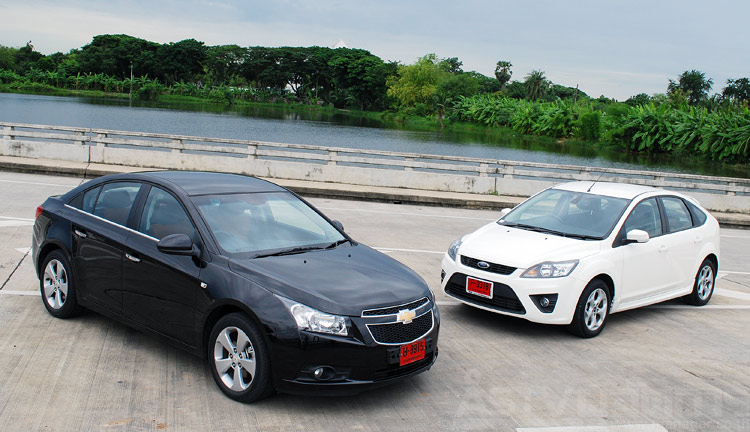sedan: (30, 164, 440, 402), (444, 180, 723, 337)
